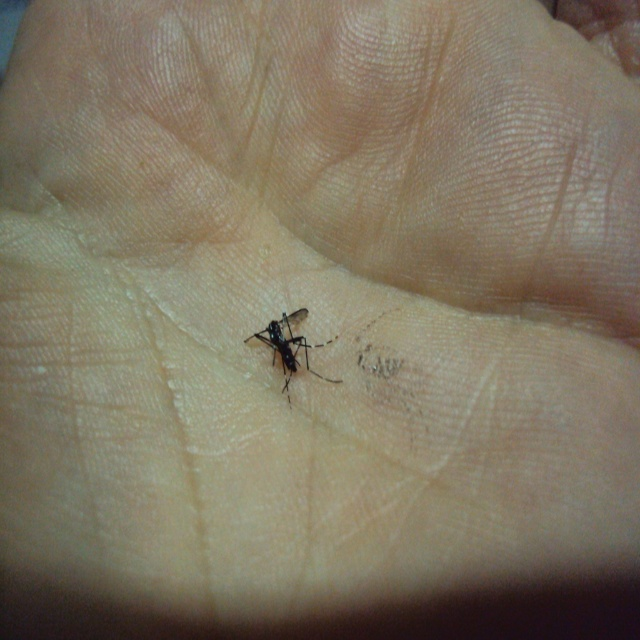Tick: (243, 308, 343, 410)
